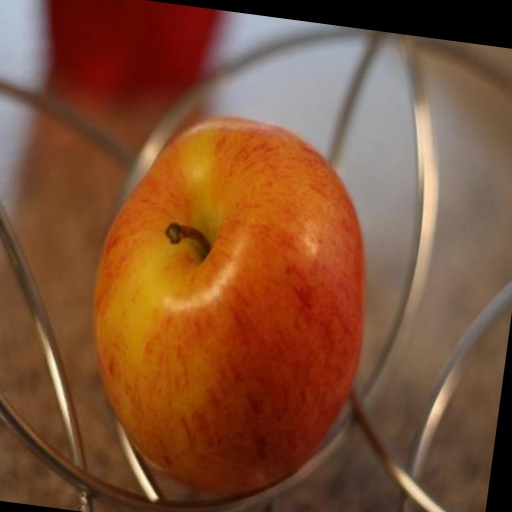fruit: (93, 118, 364, 493)
